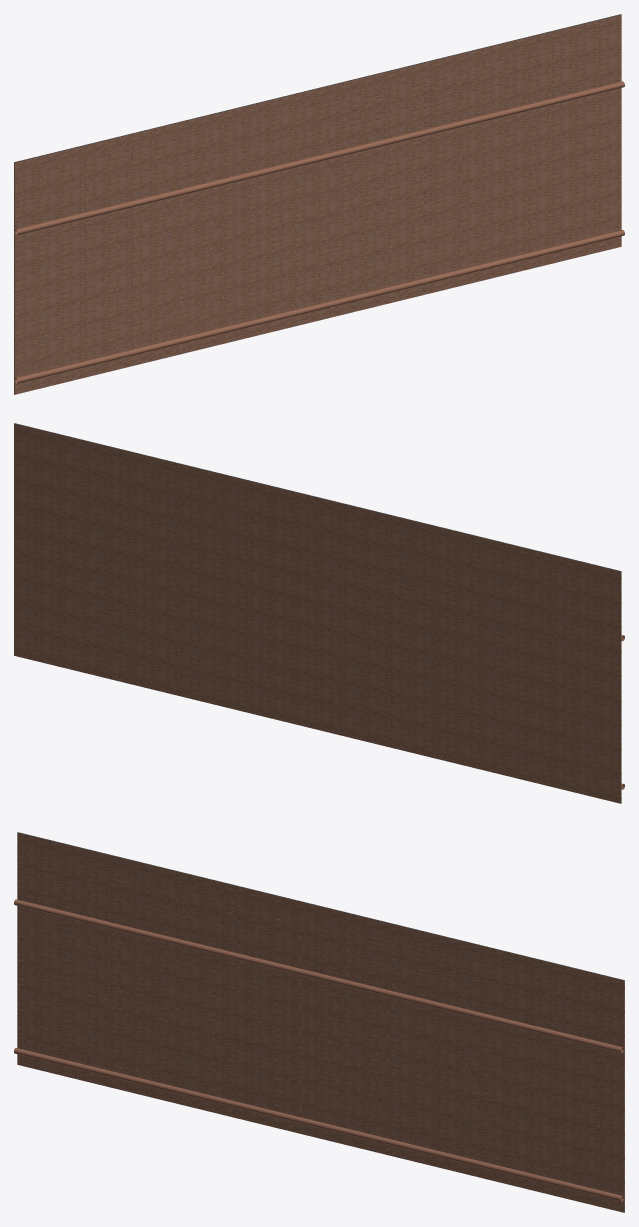
The model's file is Tutorial_Model_Structure_BS3Wall_1.fbx.
3 views of the same model, one above another, from view 1: azimuth 30°, elevation 25°; view 2: azimuth 150°, elevation 25°; view 3: azimuth 330°, elevation 25° (orthographic).
Visible parts, largest first — view 1: Wall_10, Wall_10_Pipe_1, Wall_10_Pipe_2; view 2: Wall_10; view 3: Wall_10, Wall_10_Pipe_1, Wall_10_Pipe_2.
Boxes of the visible parts, left/top/right/bottom form: Wall_10: left=14, top=14, right=621, bottom=394; Wall_10_Pipe_1: left=15, top=81, right=624, bottom=235; Wall_10_Pipe_2: left=15, top=230, right=624, bottom=383; Wall_10: left=14, top=423, right=621, bottom=803; Wall_10: left=17, top=832, right=624, bottom=1212; Wall_10_Pipe_1: left=14, top=899, right=623, bottom=1053; Wall_10_Pipe_2: left=14, top=1048, right=623, bottom=1201.
Bounding box in the file's own units: 2047 × 748 × 22.59.
2 materials, 2 textured.
